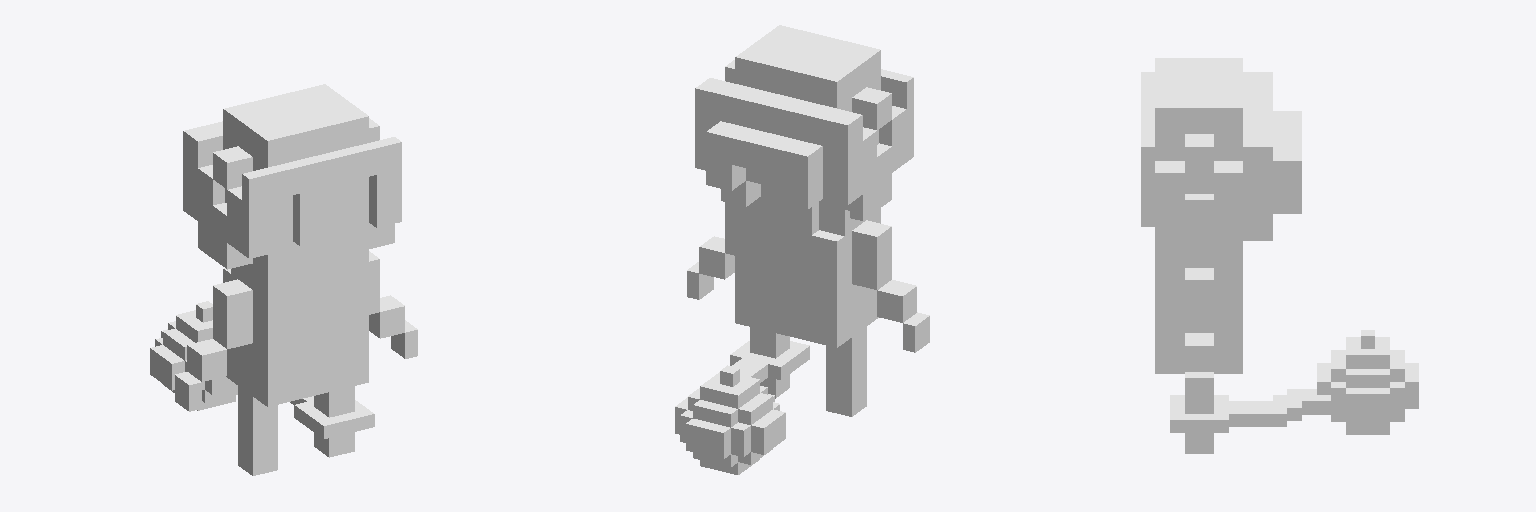
File: ChainedUpMiner.obj
3 renders of one model, left to right at view 1: azimuth 30°, elevation 25°; view 2: azimuth 150°, elevation 25°; view 3: azimuth 270°, elevation 25°, orthographic.
Bounding box in the file's own units: 18 × 26 × 19.